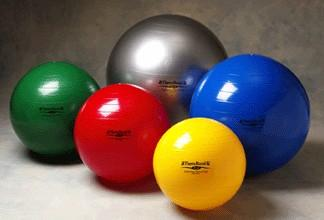blue ball: (189, 53, 312, 179)
red ball: (73, 82, 174, 188)
